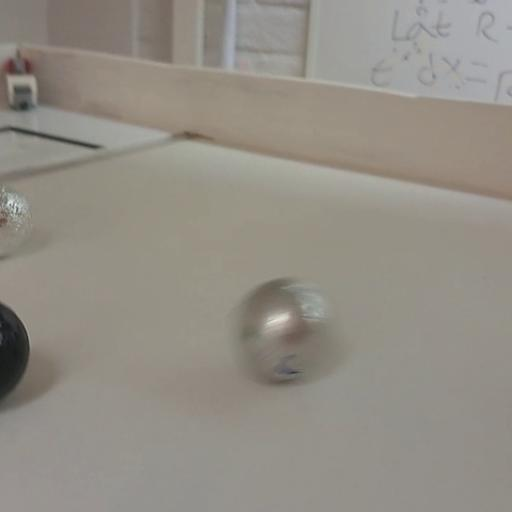alive: (234, 274, 342, 388), (0, 184, 33, 255)
dead: (0, 296, 31, 408)
